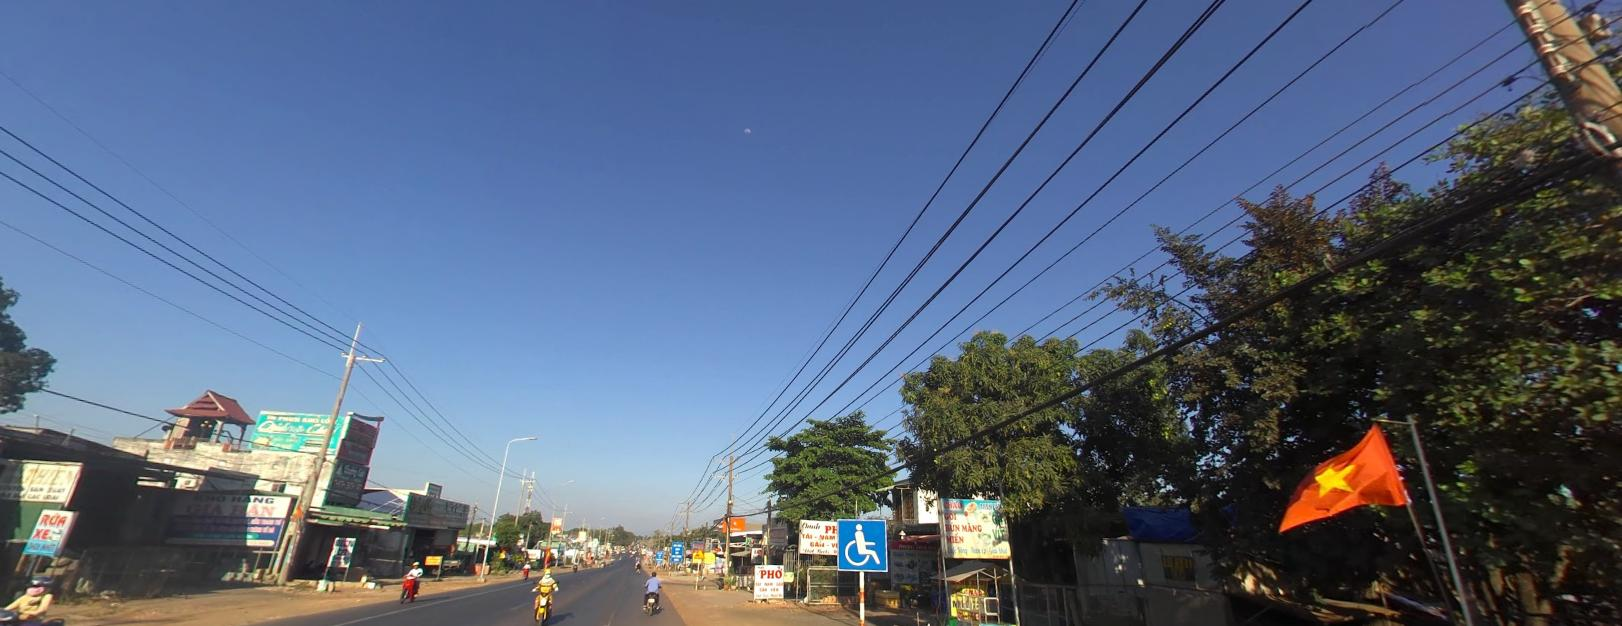Nguy hiem: (693, 547, 705, 559)
